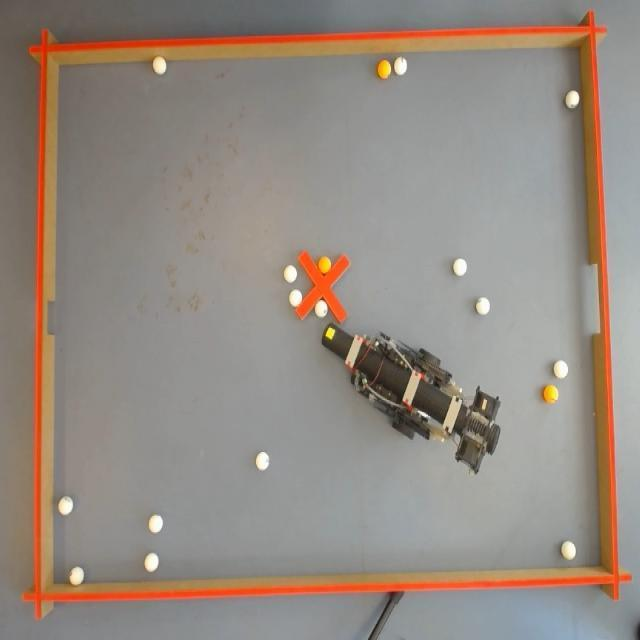orange: (316, 256, 331, 274), (543, 385, 558, 403), (377, 61, 389, 79)
robot: (314, 316, 498, 472)
white: (256, 450, 271, 470), (150, 513, 164, 534), (68, 566, 82, 586), (58, 496, 72, 516), (475, 297, 490, 315), (564, 540, 576, 562), (284, 264, 297, 284), (566, 90, 580, 108), (452, 258, 466, 276), (312, 300, 326, 318), (554, 360, 568, 378), (290, 288, 301, 310), (144, 552, 156, 572), (396, 56, 408, 76), (154, 55, 166, 74), (146, 556, 158, 573)
